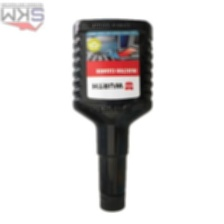cleaning_solution: (68, 16, 157, 216)
